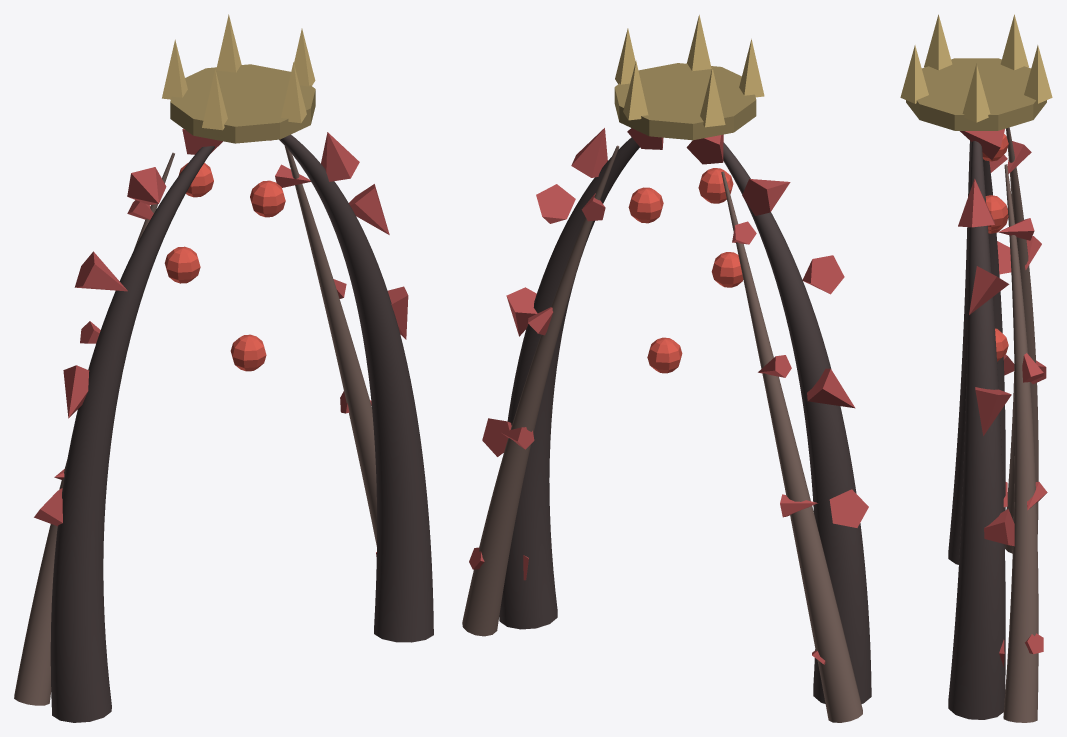
File: hedge_arch.glb
The picture shows the model from 3 angles, left to right: view 1: azimuth 30°, elevation 25°; view 2: azimuth 150°, elevation 25°; view 3: azimuth 270°, elevation 25°; orthographic projection. The views are drawn at different scales.
Parts seen in each view (by area): view 1: hedge_arch; view 2: hedge_arch; view 3: hedge_arch.
Boxes of the visible parts, <box> form: hedge_arch: <box>14,14,433,722</box>; hedge_arch: <box>462,15,871,722</box>; hedge_arch: <box>900,14,1052,722</box>.
Size of the model in its own units: 1.51 by 2.25 by 0.5185.
